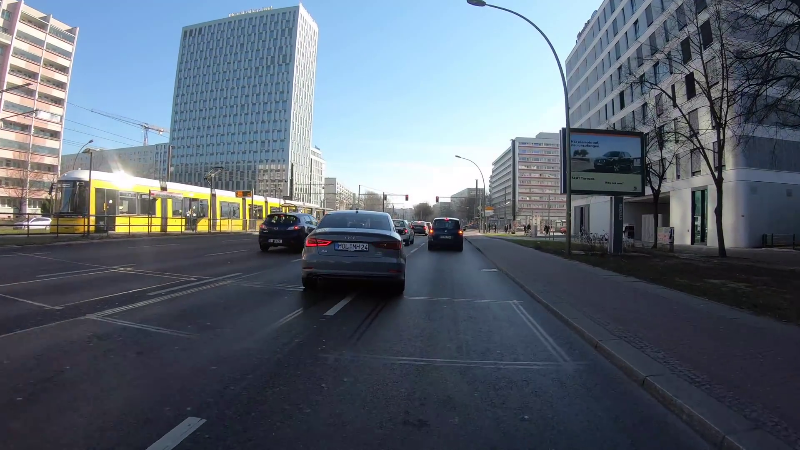Plate: (330, 239, 372, 255), (265, 236, 283, 244), (438, 233, 453, 240)
